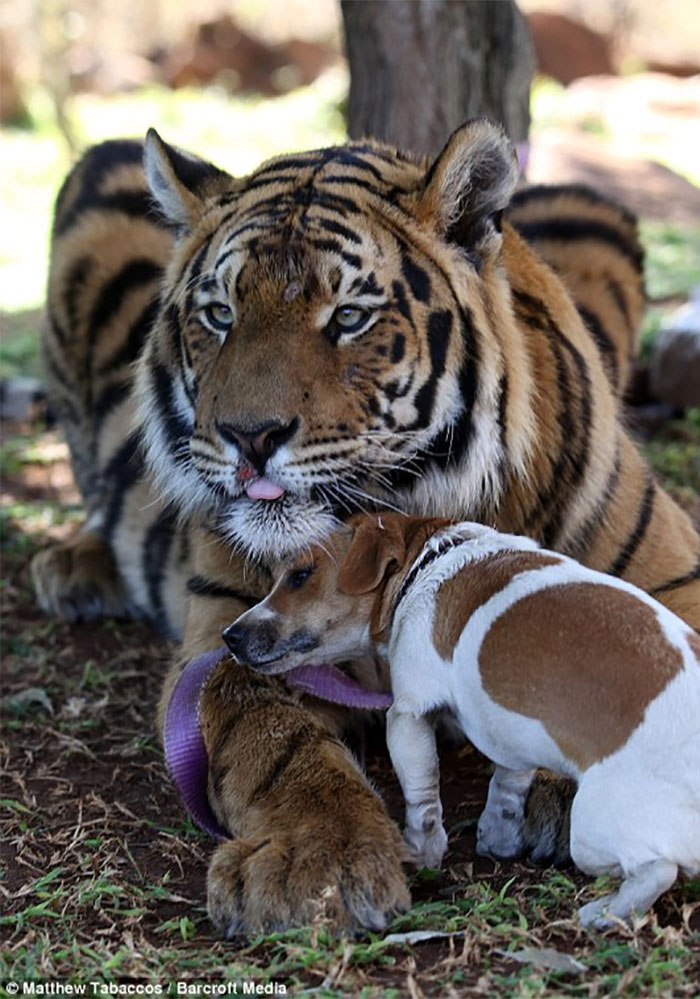dog: (230, 499, 695, 916)
tiger: (42, 127, 698, 892)
